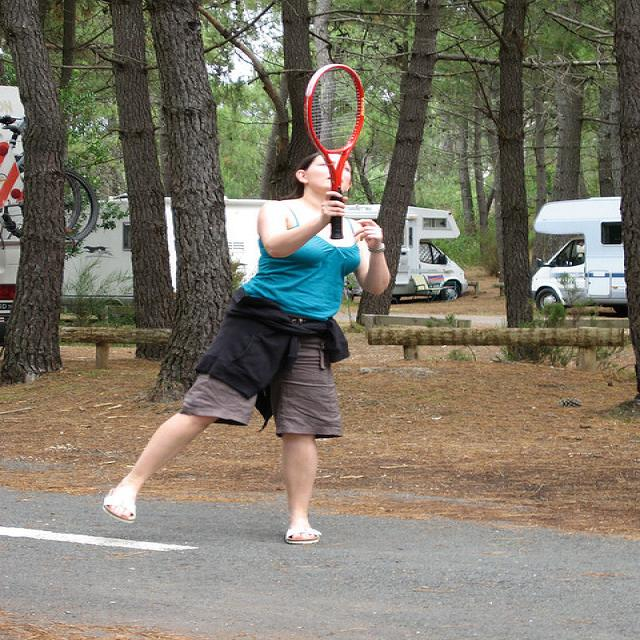Vehicle: (62, 192, 469, 322), (532, 196, 631, 317)
